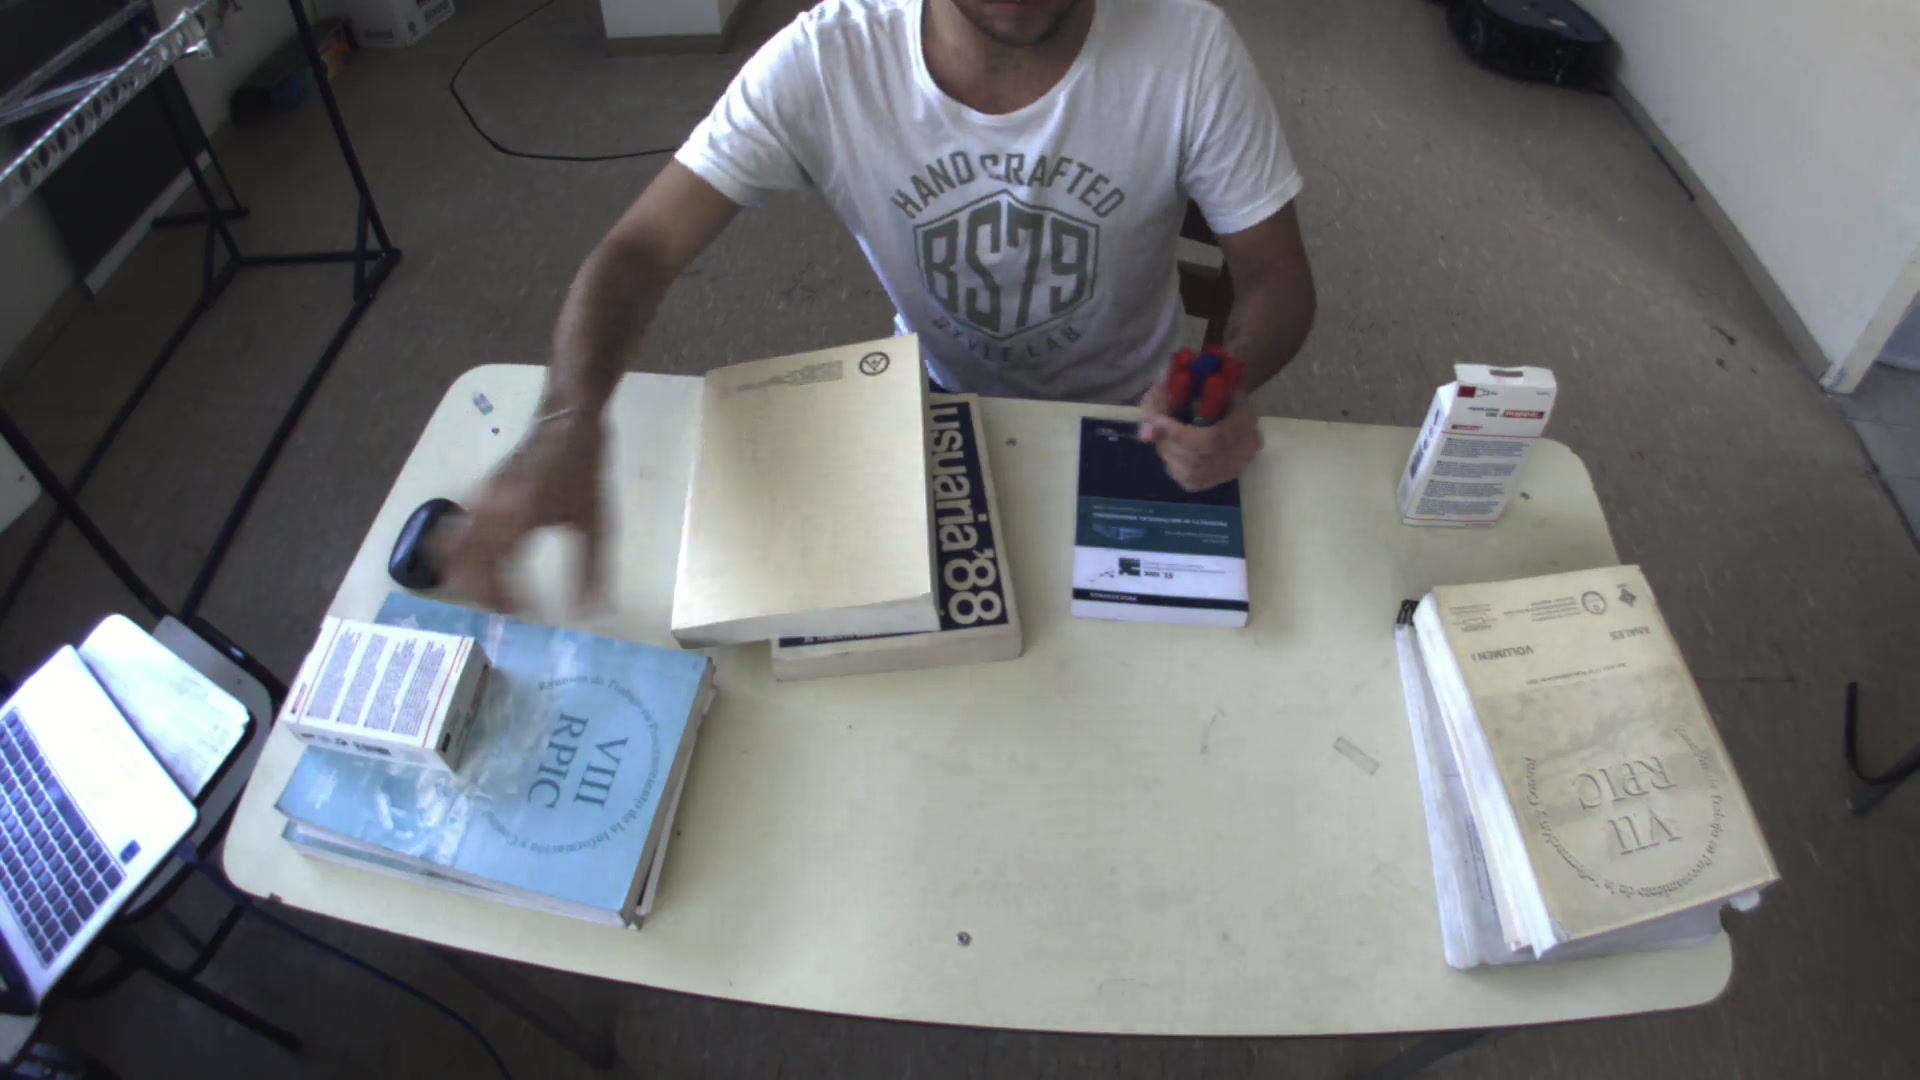hand: (1124, 338, 1284, 498)
